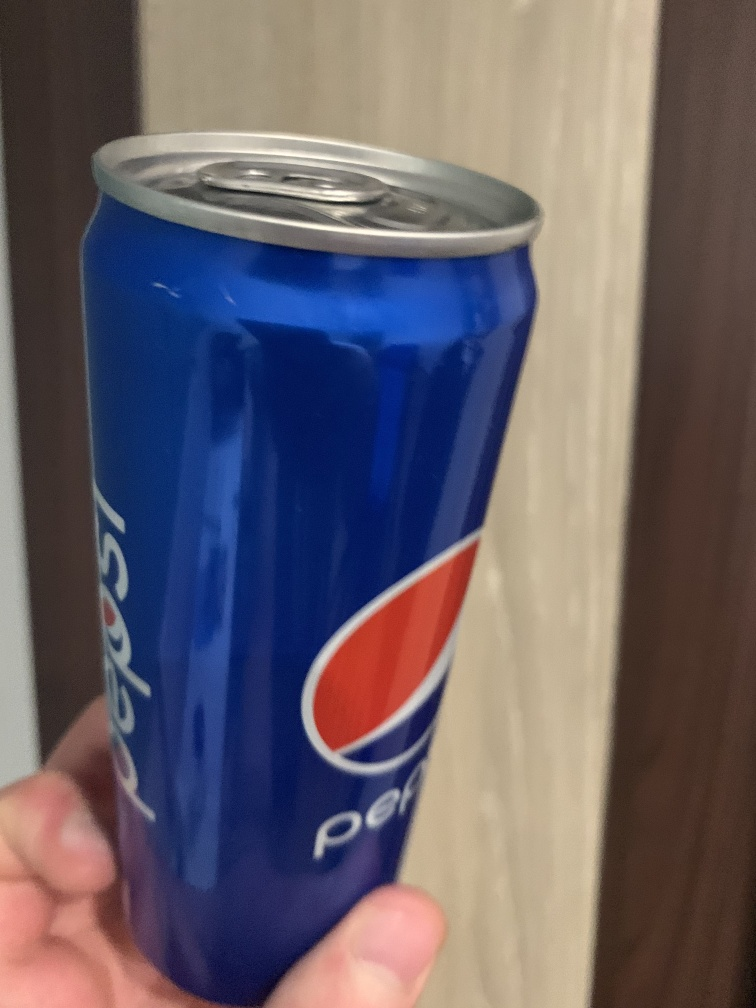pepsi: (75, 127, 550, 1002)
